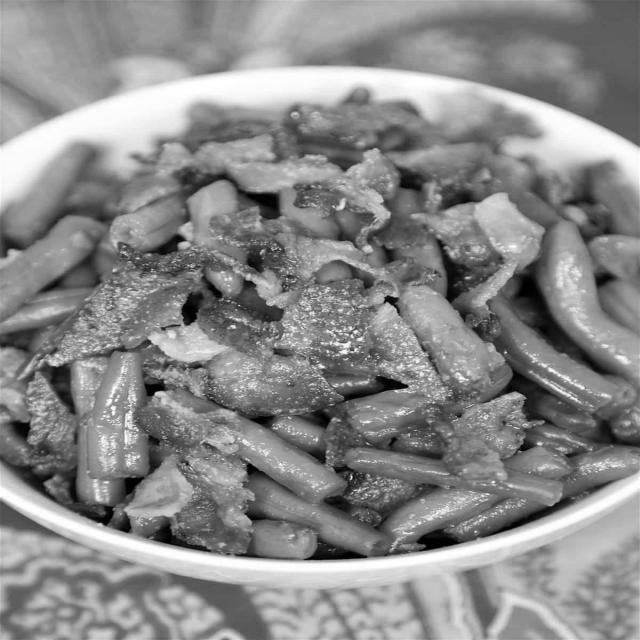Beans: (10, 82, 639, 565)
